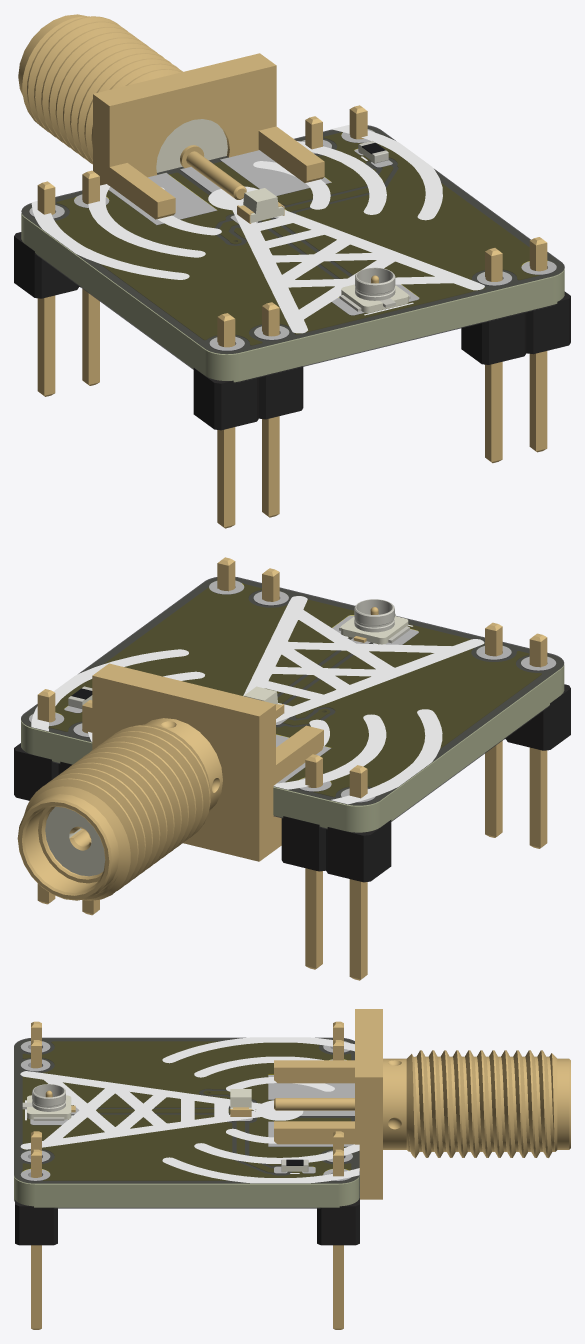
File: ipex-to-sma-adapter-minibadge.glb
3 renders of one model, top to bottom at view 1: azimuth 30°, elevation 25°; view 2: azimuth 150°, elevation 25°; view 3: azimuth 270°, elevation 25°, orthographic. The views are drawn at different scales.
Parts seen in each view (by area): view 1: =>[0:1:1:11], J1, =>[0:1:1:7], MB1 (×4), =>[0:1:1:12], =>[0:1:1:10], =>[0:1:1:8], J2, D1; view 2: J1, =>[0:1:1:11], =>[0:1:1:7], MB1 (×4), =>[0:1:1:12], =>[0:1:1:10], =>[0:1:1:8], J2; view 3: =>[0:1:1:11], J1, =>[0:1:1:7], =>[0:1:1:10], =>[0:1:1:12], MB1 (×4), =>[0:1:1:8], J2, D1.
Boxes of the visible parts, box(x1,y1,x2,y2) form: =>[0:1:1:11]: box(21, 125, 564, 382); J1: box(18, 14, 324, 219); =>[0:1:1:7]: box(55, 133, 547, 344); MB1 (×4): box(14, 105, 570, 528); =>[0:1:1:12]: box(21, 127, 564, 382); =>[0:1:1:10]: box(31, 125, 484, 333); =>[0:1:1:8]: box(29, 129, 556, 350); J2: box(339, 267, 410, 312); D1: box(237, 188, 284, 223); J1: box(17, 663, 323, 900); =>[0:1:1:11]: box(21, 577, 564, 829); =>[0:1:1:7]: box(49, 583, 541, 796); MB1 (×4): box(14, 557, 570, 980); =>[0:1:1:12]: box(21, 578, 564, 832); =>[0:1:1:10]: box(31, 596, 484, 804); =>[0:1:1:8]: box(29, 580, 556, 802); J2: box(339, 599, 409, 644); =>[0:1:1:11]: box(14, 1037, 359, 1208); J1: box(274, 1009, 570, 1199); =>[0:1:1:7]: box(23, 1042, 350, 1180); =>[0:1:1:10]: box(20, 1037, 359, 1183); =>[0:1:1:12]: box(14, 1039, 359, 1207); MB1 (×4): box(15, 1021, 359, 1329); =>[0:1:1:8]: box(20, 1041, 354, 1180); J2: box(22, 1084, 75, 1120); D1: box(230, 1089, 251, 1116).
Bounding box in the file's own units: 0.0203 × 0.0144 × 0.0327.
